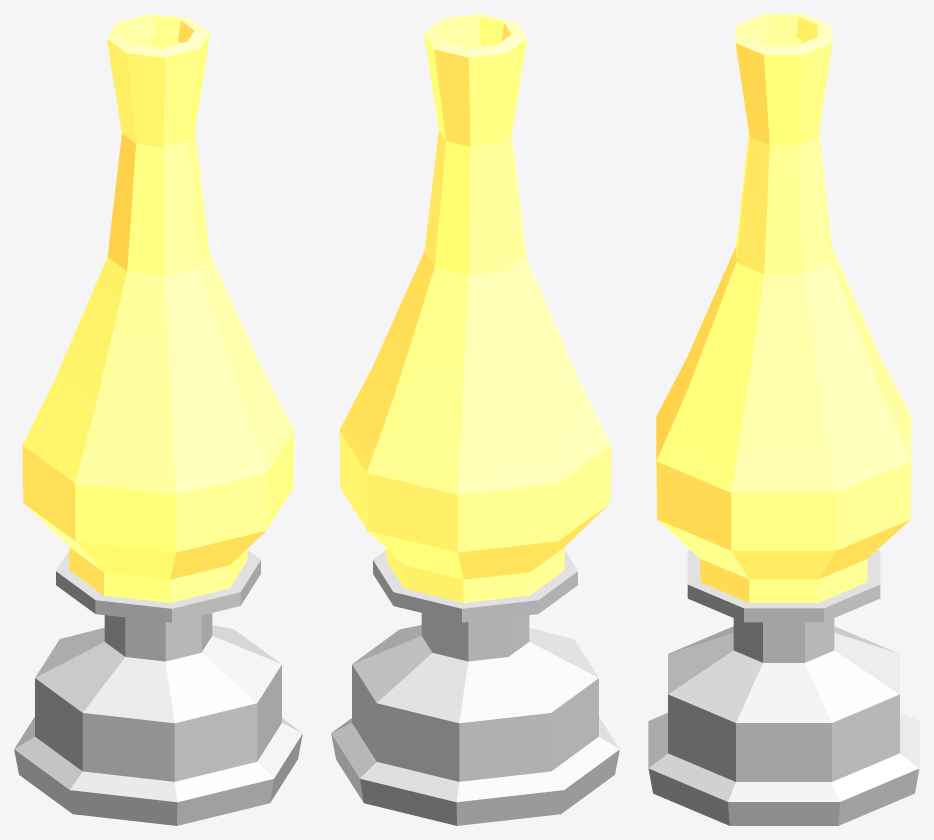
File: lamp.fbx
3 views of the same model, side by side, from view 1: azimuth 30°, elevation 25°; view 2: azimuth 150°, elevation 25°; view 3: azimuth 270°, elevation 25° (orthographic).
Parts seen in each view (by area): view 1: SM_Prop_Lantern_02_Glass, SM_Prop_Lantern_Lit_02__2_; view 2: SM_Prop_Lantern_02_Glass, SM_Prop_Lantern_Lit_02__2_; view 3: SM_Prop_Lantern_02_Glass, SM_Prop_Lantern_Lit_02__2_.
Boxes of the visible parts, box(x1,y1,x2,y2) form: SM_Prop_Lantern_02_Glass: box(22, 14, 294, 602); SM_Prop_Lantern_Lit_02__2_: box(14, 550, 302, 825); SM_Prop_Lantern_02_Glass: box(339, 14, 611, 602); SM_Prop_Lantern_Lit_02__2_: box(331, 550, 619, 825); SM_Prop_Lantern_02_Glass: box(656, 14, 911, 602); SM_Prop_Lantern_Lit_02__2_: box(648, 549, 919, 825).
Size of the model in its own units: 21.63 by 65.15 by 21.63.
